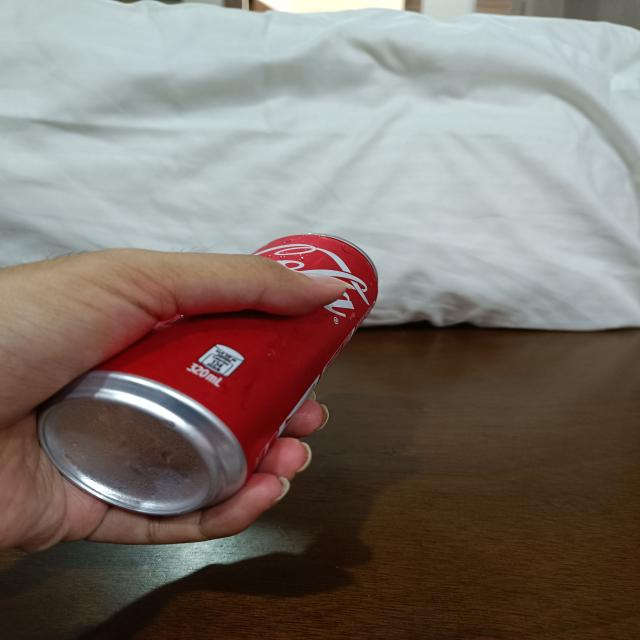coke: (49, 238, 376, 516)
